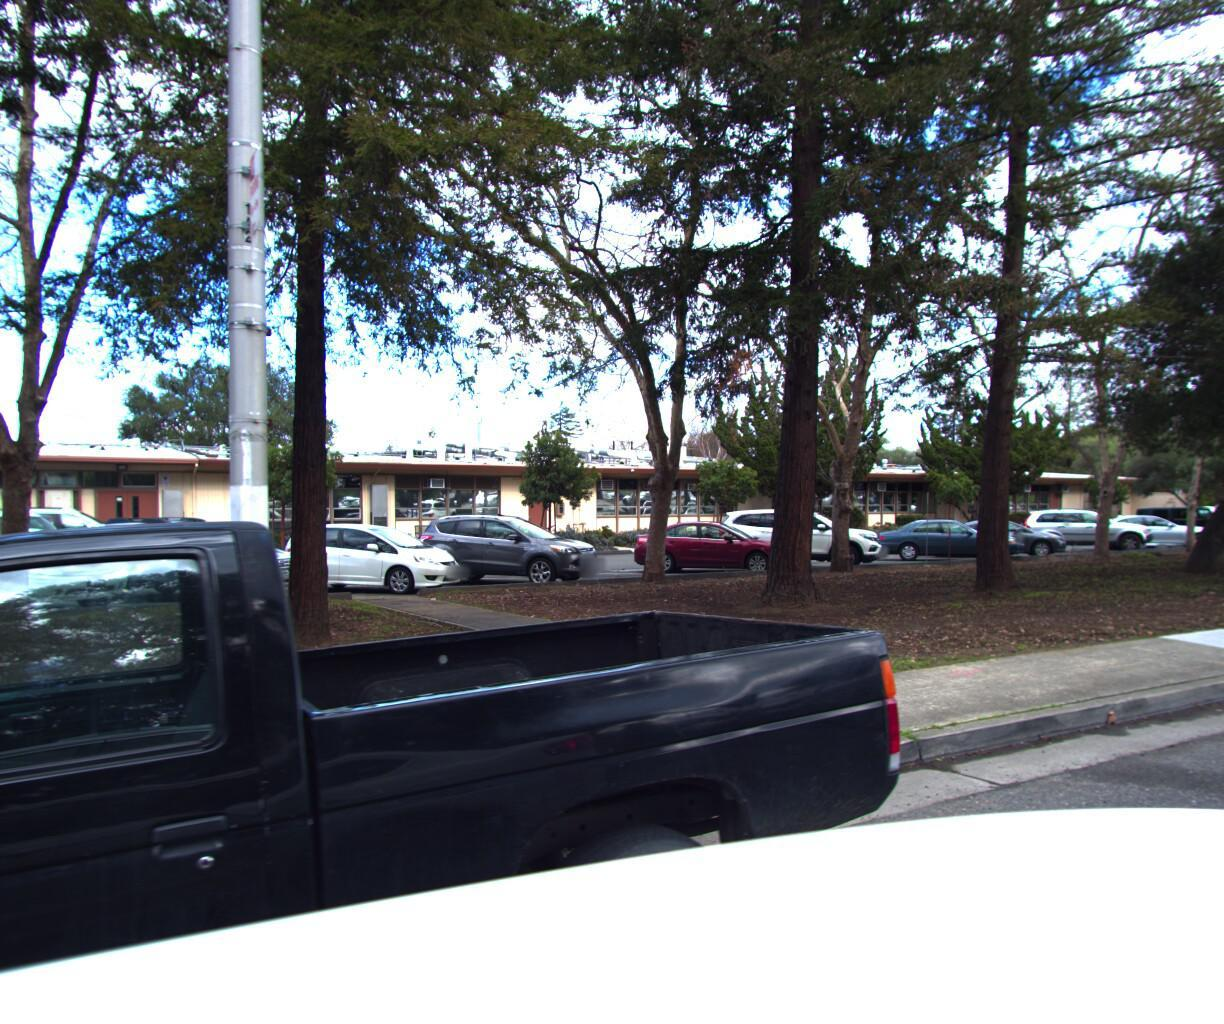car: (0, 507, 937, 1024)
